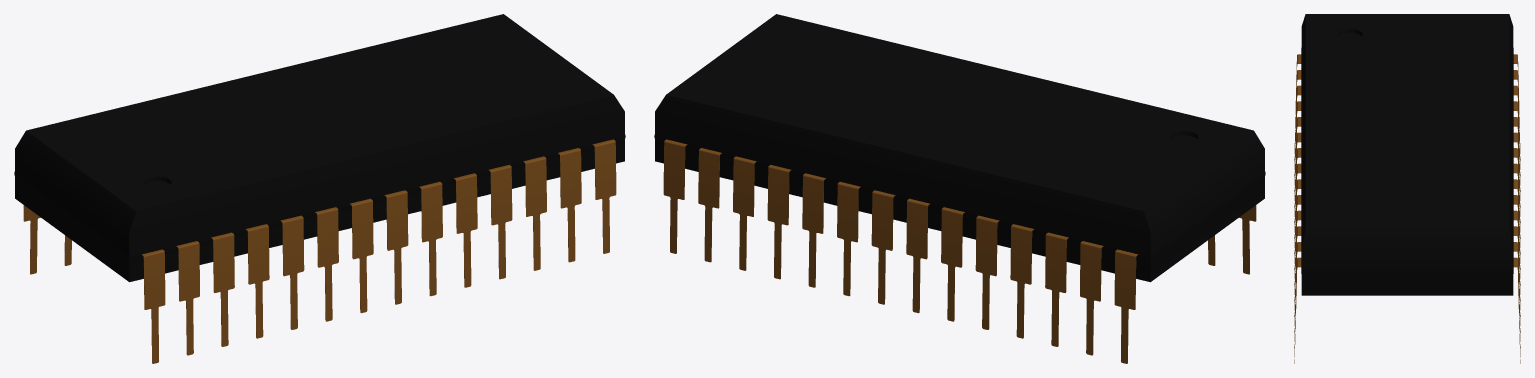
The model's file is chip.fbx.
The picture shows the model from 3 angles, left to right: view 1: azimuth 30°, elevation 25°; view 2: azimuth 150°, elevation 25°; view 3: azimuth 270°, elevation 25°; orthographic projection. The views are drawn at different scales.
Visible parts, largest first — view 1: Box001, Line001; view 2: Box001, Line001; view 3: Box001, Line001.
Part boxes in pixels (x1,y1,x2,y2): Box001: (14, 14, 625, 282); Line001: (23, 139, 616, 363); Box001: (654, 14, 1265, 282); Line001: (663, 139, 1256, 363); Box001: (1301, 14, 1513, 295); Line001: (1294, 54, 1520, 363).
Size of the model in its own units: 50.09 by 14.56 by 21.38.
